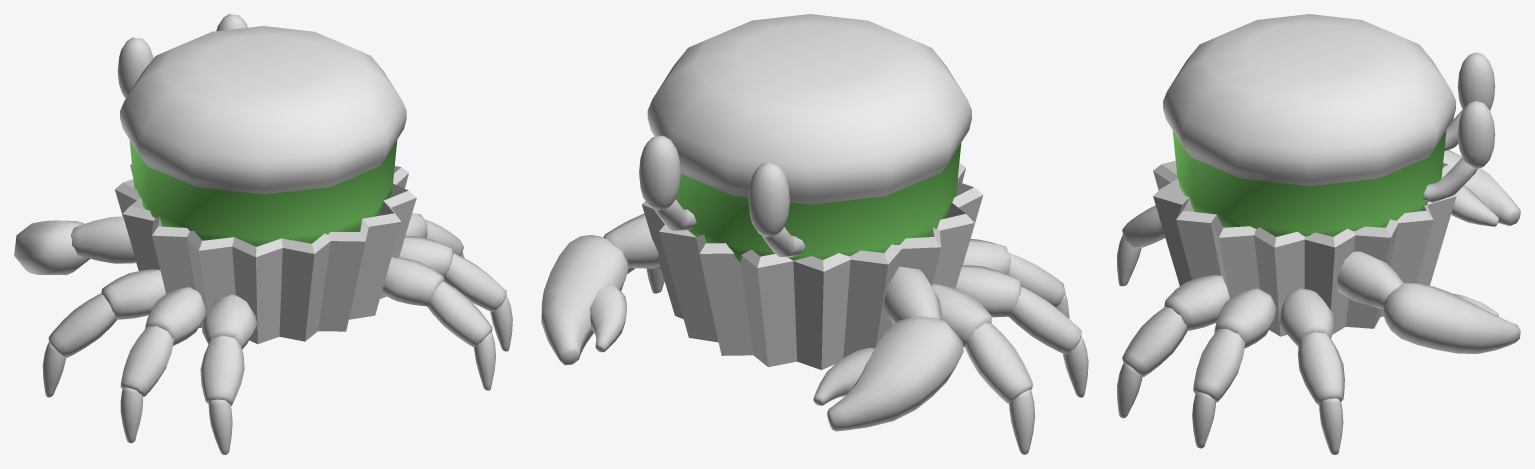
Rendered from CrabCakeModel.fbx.
3 renders of one model, left to right at view 1: azimuth 30°, elevation 25°; view 2: azimuth 150°, elevation 25°; view 3: azimuth 270°, elevation 25°, orthographic. The views are drawn at different scales.
Parts seen in each view (by area): view 1: Cylinder.002, Cylinder.001, Cube.012, Cube.002, Cube.001, Cube.003, Cube.004, Cube.010, Cube.008, Cube.016, Cube.017; view 2: Cylinder.002, Cylinder.001, Cube.010, Cube.011, Cube.002, Cube.012, Cube.001, Cube.016, Cube.015, Cube.008, Cube.009, Cube.013 (+1 smaller); view 3: Cylinder.002, Cylinder.001, Cube.011, Cube.003, Cube.004, Cube.017, Cube.010, Cube.009, Cube.015, Cube.001, Cube.016, Cube.013.
Boxes of the visible parts, bbox=[...] form: Cylinder.002: bbox=[120, 26, 406, 246]; Cylinder.001: bbox=[115, 164, 416, 344]; Cube.012: bbox=[120, 287, 205, 443]; Cube.002: bbox=[42, 269, 165, 397]; Cube.001: bbox=[200, 294, 256, 454]; Cube.003: bbox=[381, 257, 495, 390]; Cube.004: bbox=[399, 235, 512, 351]; Cube.010: bbox=[14, 220, 89, 275]; Cube.008: bbox=[71, 216, 136, 263]; Cube.016: bbox=[117, 37, 153, 98]; Cube.017: bbox=[405, 213, 464, 257]; Cylinder.002: bbox=[647, 14, 971, 262]; Cylinder.001: bbox=[642, 163, 983, 369]; Cube.010: bbox=[813, 316, 963, 431]; Cube.011: bbox=[541, 235, 628, 365]; Cube.002: bbox=[932, 284, 1034, 454]; Cube.012: bbox=[955, 265, 1088, 397]; Cube.001: bbox=[963, 239, 1069, 318]; Cube.016: bbox=[748, 162, 789, 237]; Cube.015: bbox=[639, 135, 680, 210]; Cube.008: bbox=[883, 266, 941, 323]; Cube.009: bbox=[603, 213, 659, 268]; Cube.013: bbox=[654, 199, 696, 230]; Cylinder.002: bbox=[1163, 14, 1455, 236]; Cylinder.001: bbox=[1153, 161, 1456, 336]; Cube.011: bbox=[1383, 282, 1520, 353]; Cube.003: bbox=[1117, 275, 1229, 418]; Cube.004: bbox=[1192, 288, 1276, 448]; Cube.017: bbox=[1279, 288, 1344, 454]; Cube.010: bbox=[1443, 150, 1520, 226]; Cube.009: bbox=[1337, 251, 1403, 308]; Cube.015: bbox=[1457, 100, 1495, 168]; Cube.001: bbox=[1117, 205, 1165, 286]; Cube.016: bbox=[1457, 52, 1495, 110]; Cube.013: bbox=[1422, 158, 1477, 202].
Size of the model in its own units: 397 by 268 by 324.
